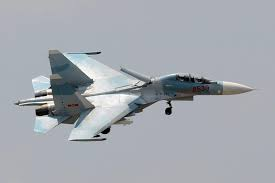maybay_muctieu: (20, 46, 256, 139)
